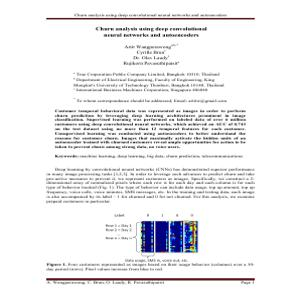diagram: (94, 210, 214, 255)
text: (40, 24, 265, 207), (36, 257, 255, 275)
